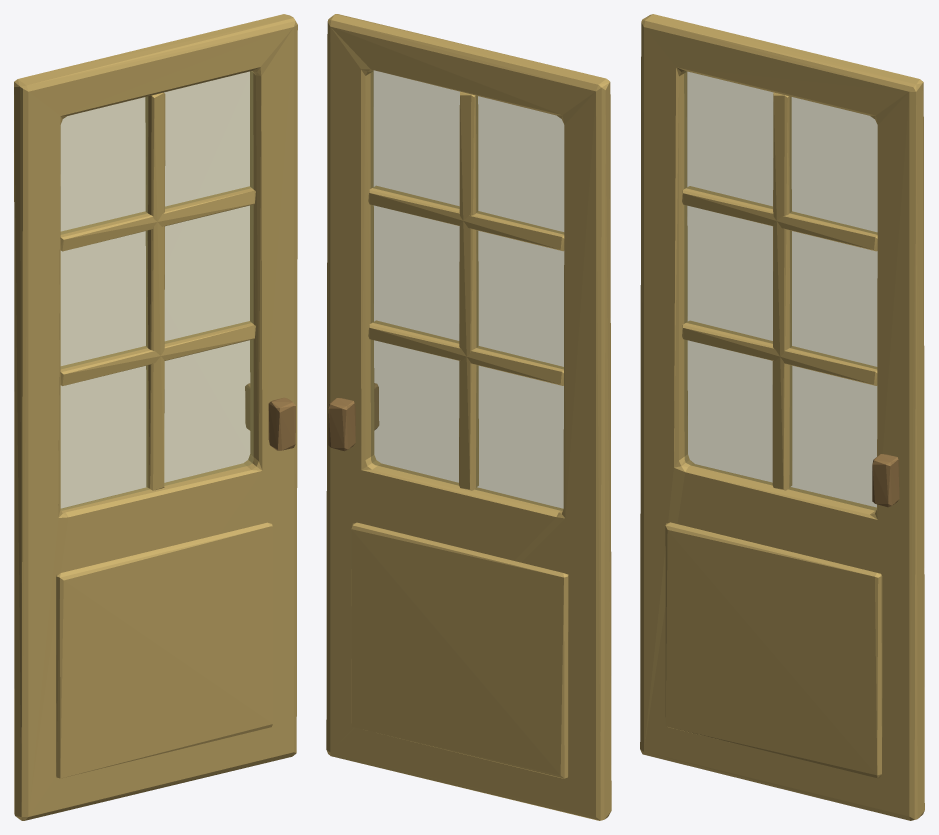
Rendered from SM_Kit_Door_Glass_LOD1.glb.
3 views of the same model, side by side, from view 1: azimuth 30°, elevation 25°; view 2: azimuth 150°, elevation 25°; view 3: azimuth 330°, elevation 25° (orthographic).
Visible parts, largest first — view 1: SM_Kit_Door_Glass_LOD1; view 2: SM_Kit_Door_Glass_LOD1; view 3: SM_Kit_Door_Glass_LOD1.
Boxes of the visible parts, box(x1,y1,x2,y2) form: SM_Kit_Door_Glass_LOD1: box(14, 14, 297, 820); SM_Kit_Door_Glass_LOD1: box(326, 14, 611, 820); SM_Kit_Door_Glass_LOD1: box(640, 14, 924, 820).
Size of the model in its own units: 0.8177 by 2.08 by 0.1761.
